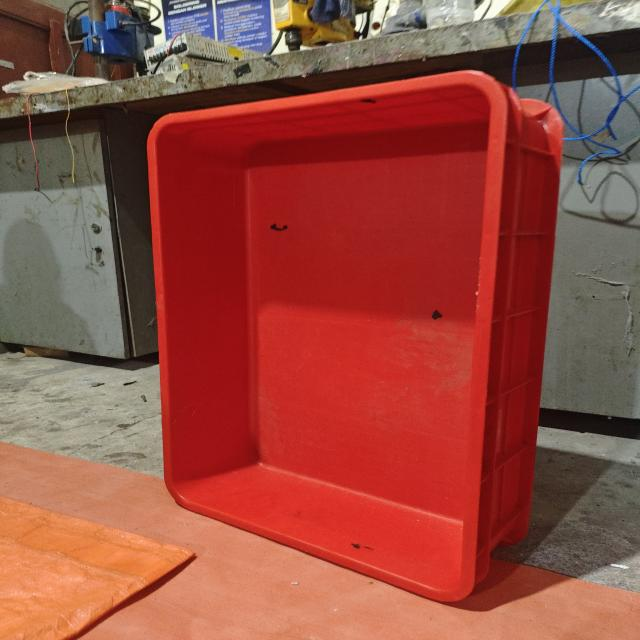red plastic box: (146, 69, 565, 604)
